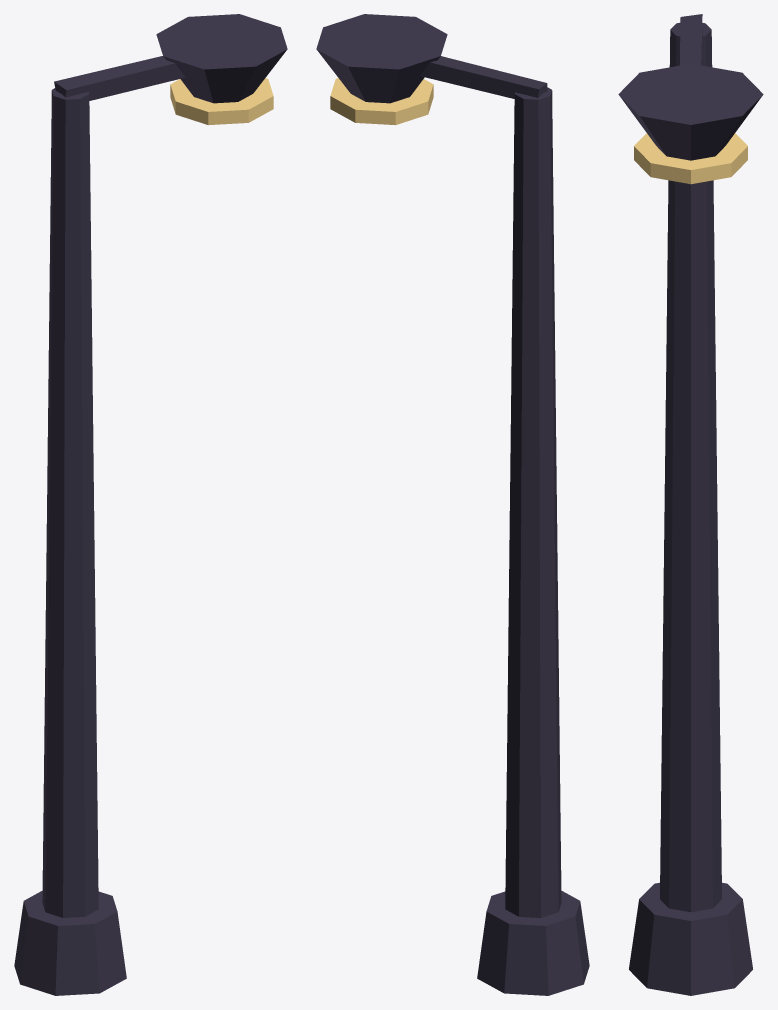
The model's file is street_lamp.glb.
3 renders of one model, left to right at view 1: azimuth 30°, elevation 25°; view 2: azimuth 150°, elevation 25°; view 3: azimuth 270°, elevation 25°, orthographic. The views are drawn at different scales.
Parts seen in each view (by area): view 1: iron, glow; view 2: iron, glow; view 3: iron, glow.
Boxes of the visible parts, box(x1,y1,x2,y2) form: iron: box(14, 14, 287, 995); glow: box(170, 78, 273, 125); iron: box(316, 14, 589, 995); glow: box(330, 78, 433, 125); iron: box(618, 14, 763, 995); glow: box(634, 133, 747, 184).
Size of the model in its own units: 1.24 by 4.06 by 0.56.
